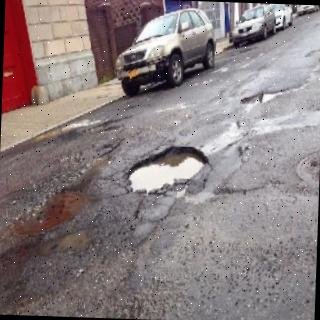pothole: (128, 146, 209, 192), (241, 90, 290, 104)
